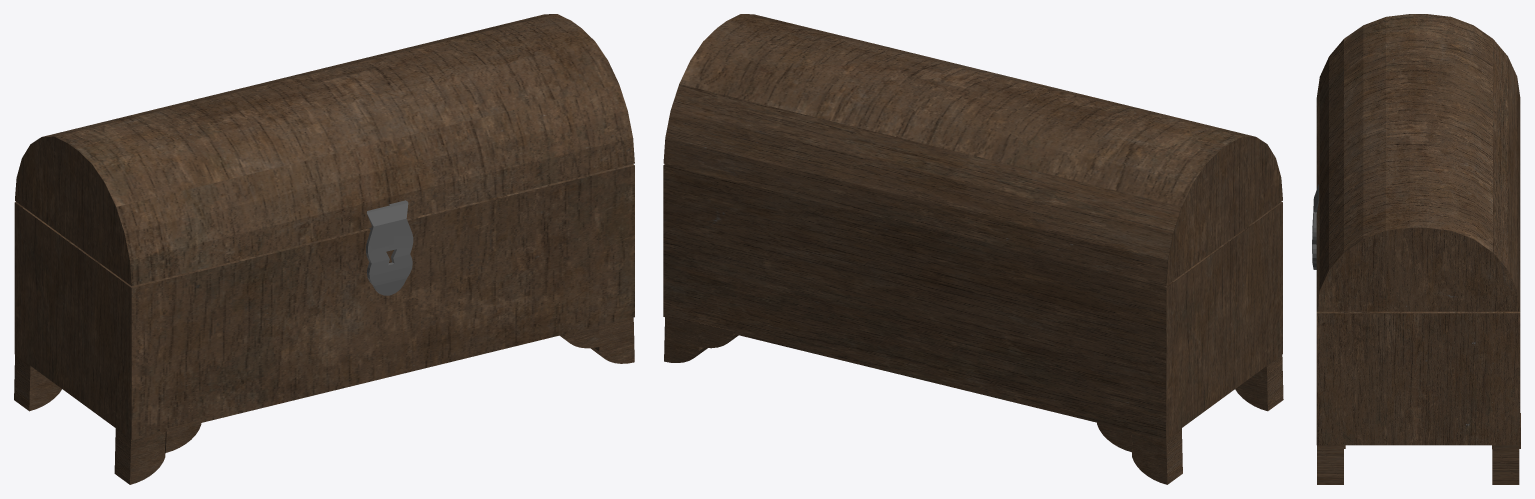
File: skrin.fbx
The picture shows the model from 3 angles, left to right: view 1: azimuth 30°, elevation 25°; view 2: azimuth 150°, elevation 25°; view 3: azimuth 270°, elevation 25°; orthographic projection. The views are drawn at different scales.
Parts seen in each view (by area): view 1: Cube.019, Circle.001, Plane.017; view 2: Cube.019, Circle.001; view 3: Cube.019, Circle.001, Plane.017.
Boxes of the visible parts, bbox=[...] form: Cube.019: bbox=[14, 14, 634, 439]; Circle.001: bbox=[14, 317, 634, 484]; Plane.017: bbox=[366, 200, 413, 295]; Cube.019: bbox=[663, 14, 1282, 439]; Circle.001: bbox=[664, 317, 1283, 484]; Cube.019: bbox=[1316, 14, 1520, 445]; Circle.001: bbox=[1317, 413, 1520, 484]; Plane.017: bbox=[1312, 184, 1318, 269].
Bounding box in the file's own units: 130 × 72.79 × 53.54.
